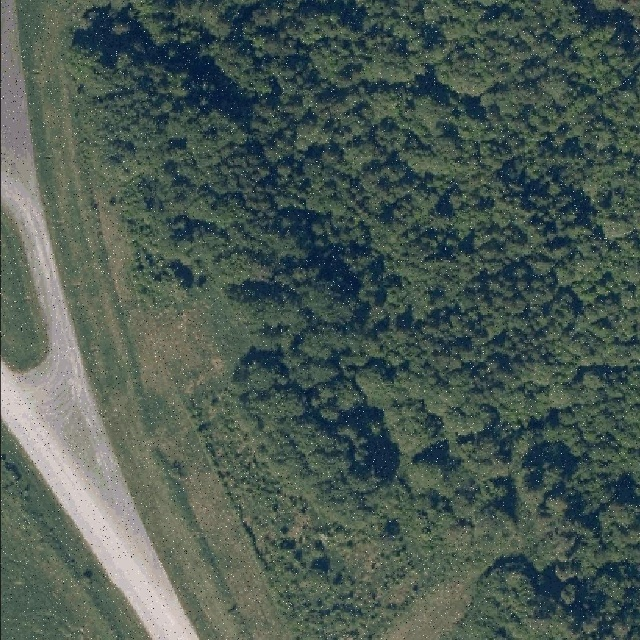vegetation: (69, 0, 640, 640)
